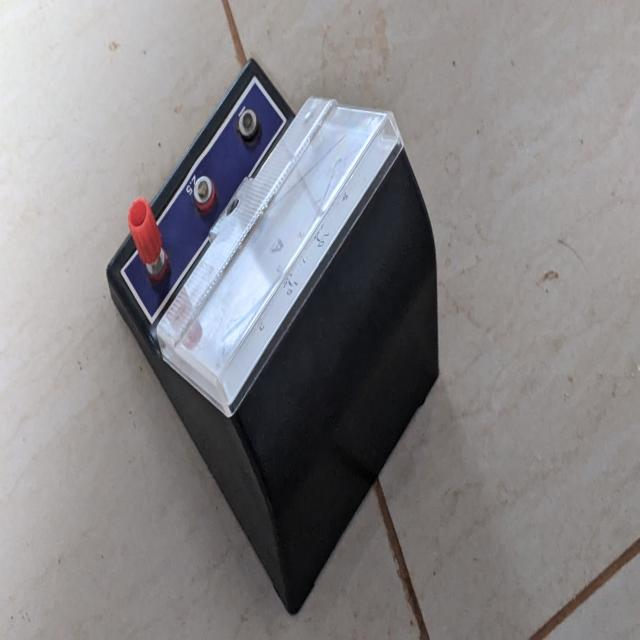Ammeter Analog: (102, 57, 445, 608)
